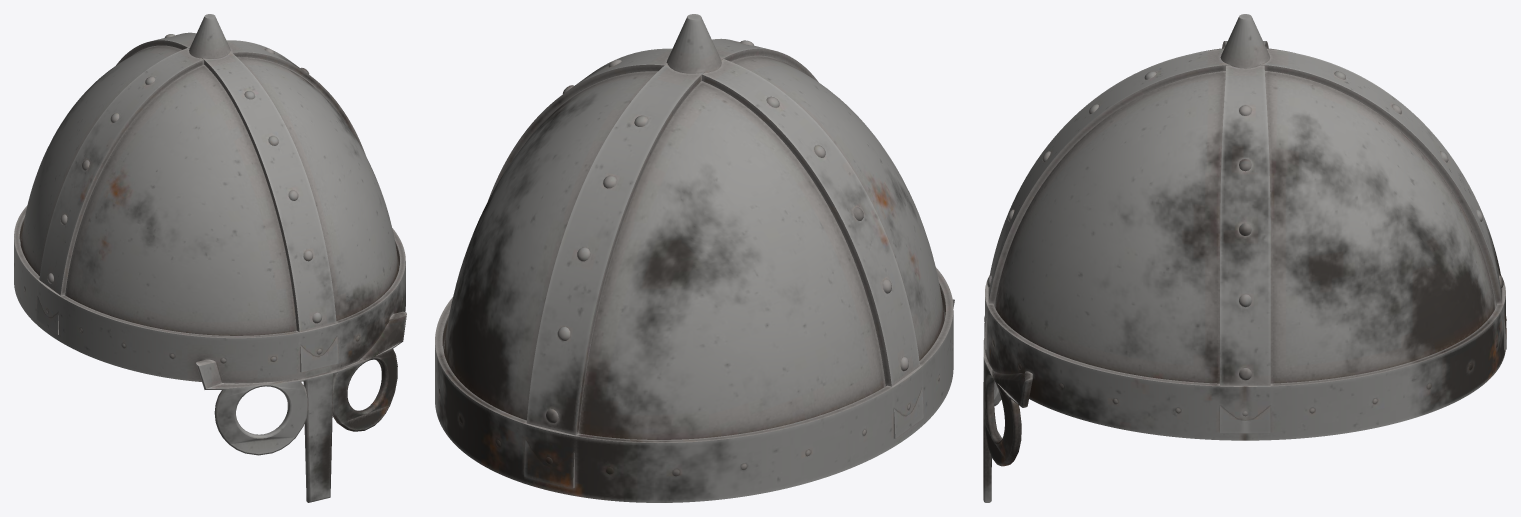
File: spangenhelm.glb
3 views of the same model, side by side, from view 1: azimuth 30°, elevation 25°; view 2: azimuth 150°, elevation 25°; view 3: azimuth 270°, elevation 25° (orthographic). The views are drawn at different scales.
Visible parts, largest first — view 1: spangenhelm; view 2: spangenhelm; view 3: spangenhelm.
Part boxes in pixels (left/top/right/bottom): spangenhelm: left=14, top=14, right=406, bottom=502; spangenhelm: left=435, top=14, right=954, bottom=502; spangenhelm: left=983, top=14, right=1506, bottom=502.
Size of the model in its own units: 0.2108 by 0.2502 by 0.2473.
Materials: 1 (1 with a texture image).
